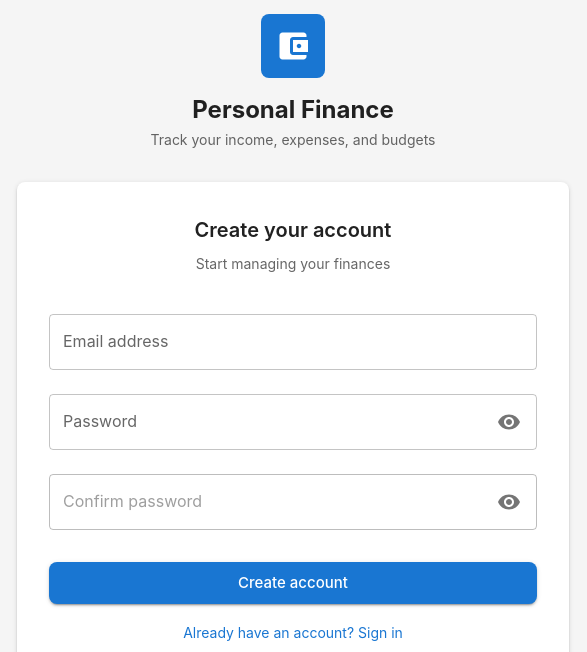
Test case: User Registration › Error Handling › should show rate limit error after too many attempts
Type "ratelimit@example.com" into the field named "Email address" at (293, 342), box x1=49 y1=314 x2=537 y2=370
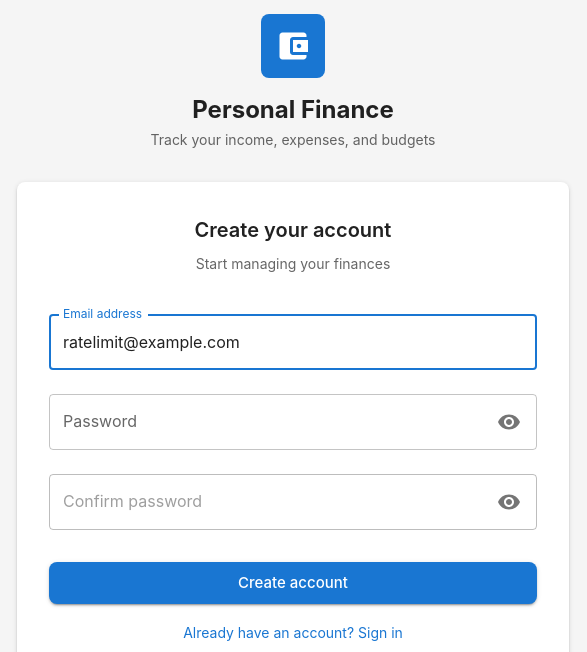
Type "SecurePass123!" into the password field named "Password" at (267, 422), box x1=49 y1=394 x2=484 y2=450
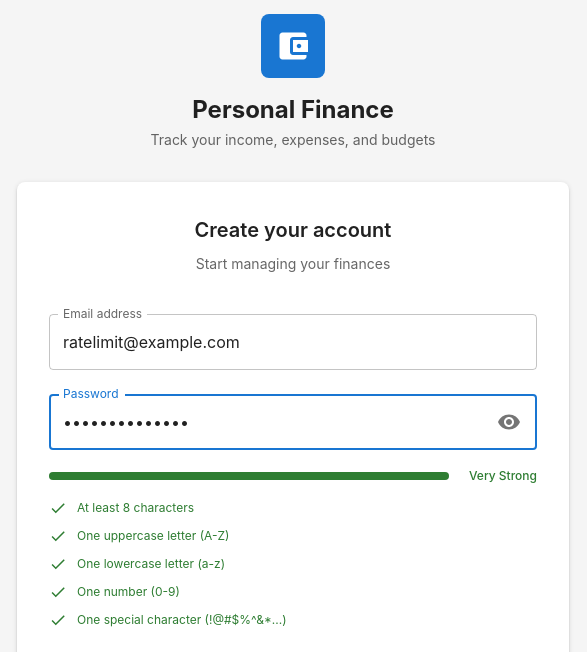
Scroll
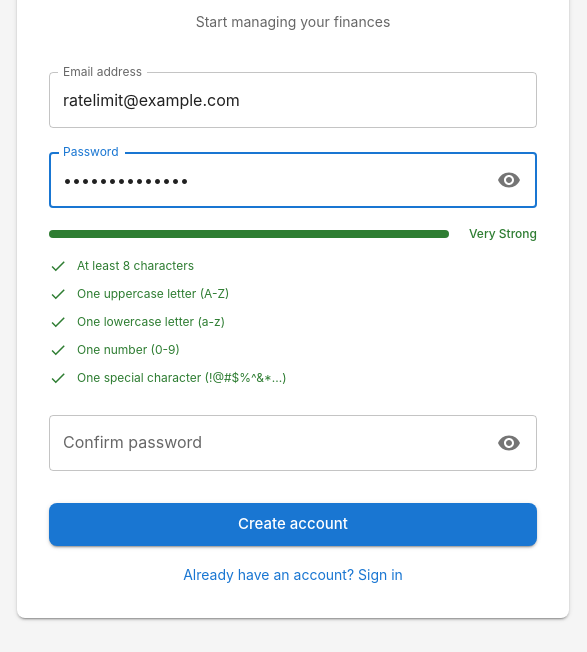
Type "SecurePass123!" into the password field named "Confirm password" at (267, 444), box x1=49 y1=416 x2=484 y2=472
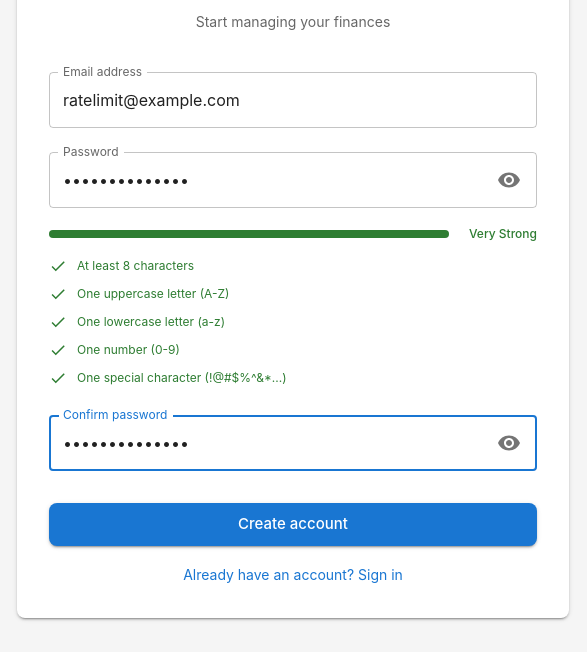
Click the button "Create account" at (293, 525), box x1=49 y1=504 x2=537 y2=546
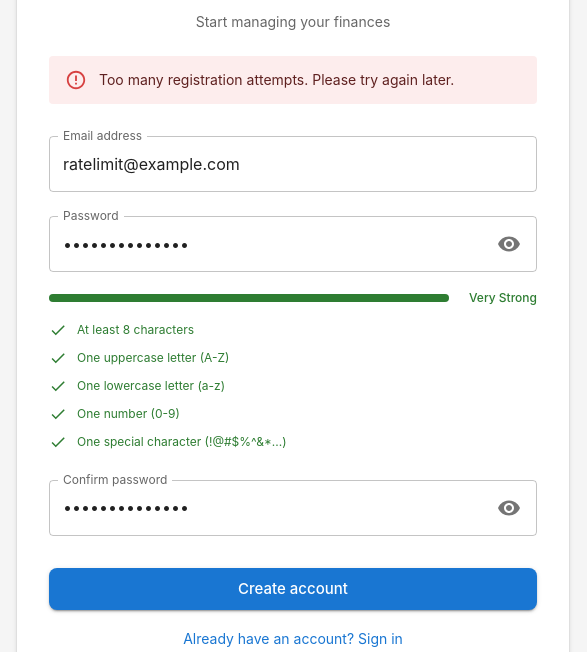
Now the text "Too many registration attempts. Please try again later." is shown, box x1=99 y1=71 x2=454 y2=88
